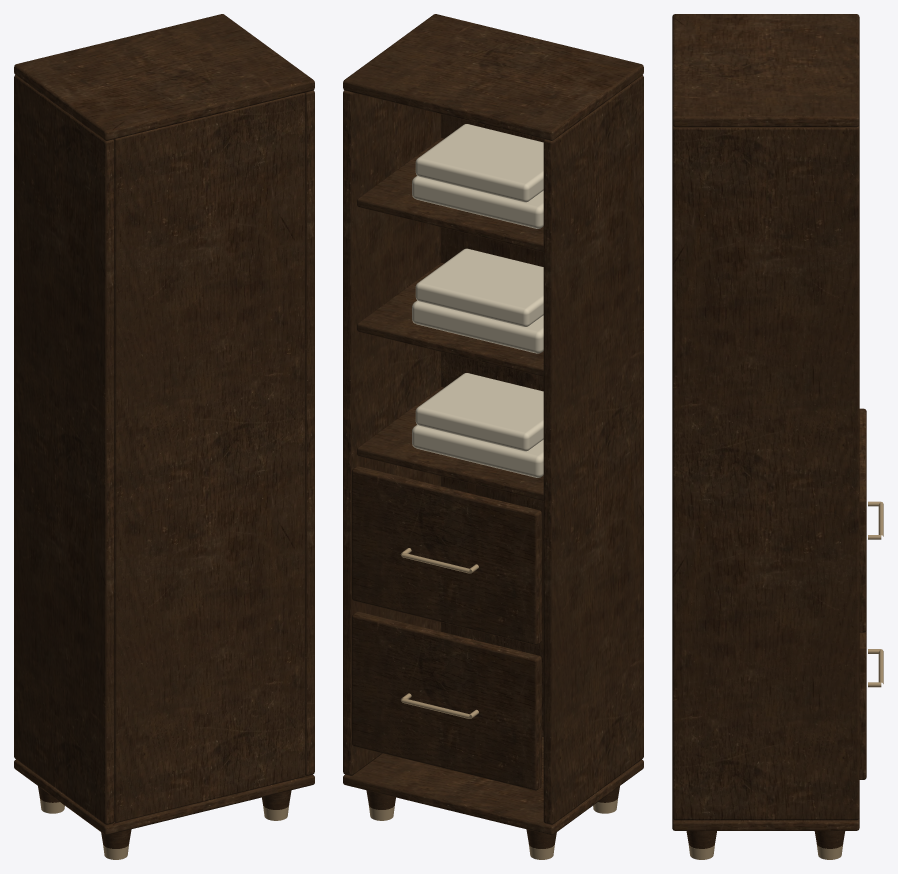
The model's file is bath-storage-tower.glb.
3 views of the same model, side by side, from view 1: azimuth 30°, elevation 25°; view 2: azimuth 150°, elevation 25°; view 3: azimuth 270°, elevation 25° (orthographic).
Visible parts, largest first — view 1: walnut_surfaces, bronze_surfaces; view 2: walnut_surfaces, linen_surfaces, bronze_surfaces; view 3: walnut_surfaces, bronze_surfaces.
Boxes of the visible parts, x1=… form: walnut_surfaces: x1=14, y1=14, x2=314, y2=848; bronze_surfaces: x1=40, y1=799, x2=288, y2=859; walnut_surfaces: x1=343, y1=14, x2=643, y2=848; linen_surfaces: x1=412, y1=124, x2=543, y2=477; bronze_surfaces: x1=369, y1=548, x2=617, y2=859; walnut_surfaces: x1=672, y1=14, x2=866, y2=848; bronze_surfaces: x1=688, y1=501, x2=883, y2=859.
Bounding box in the file's own units: 0.5 × 1.68 × 0.429.
Materials: 3 (1 with a texture image).
